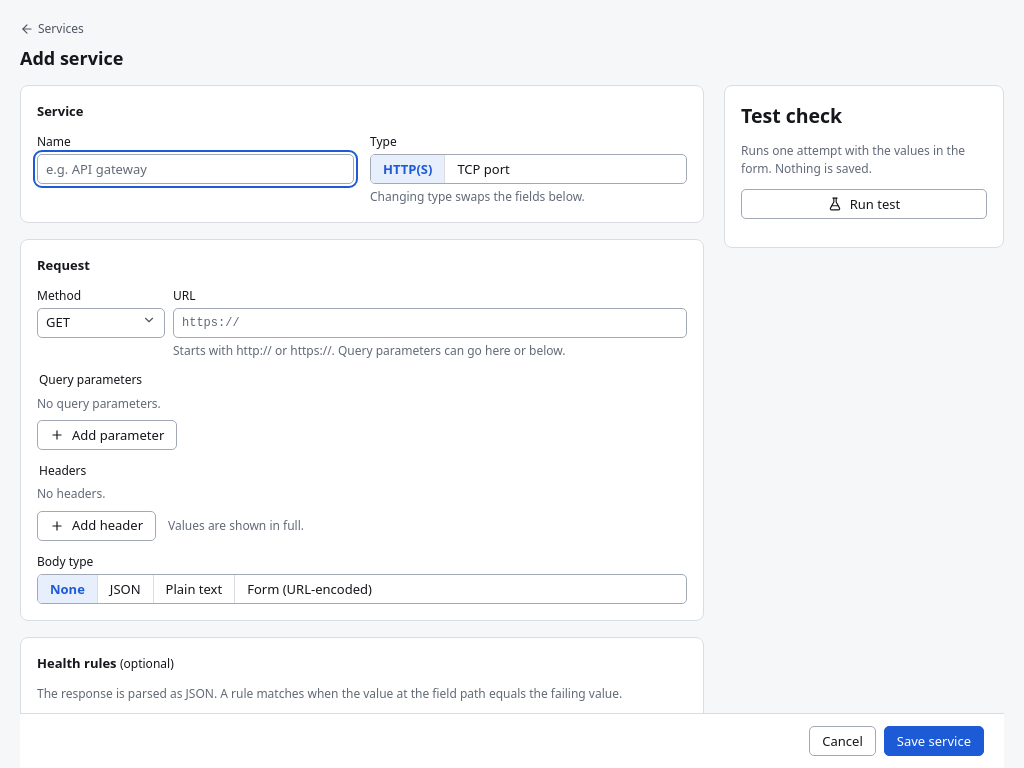
it: client checks › an empty name shows Enter a name. and sends nothing
Click the field labelled "URL" at (430,323), box 173,308 -> 687,338
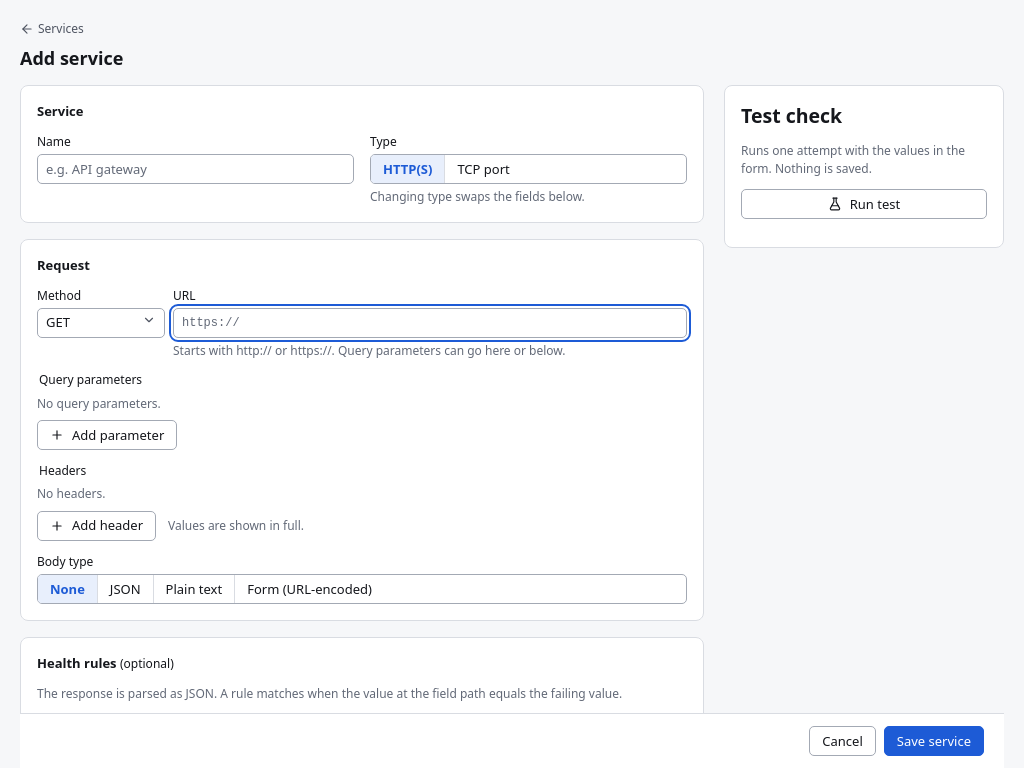
Type keys "https://search.example.com/health"
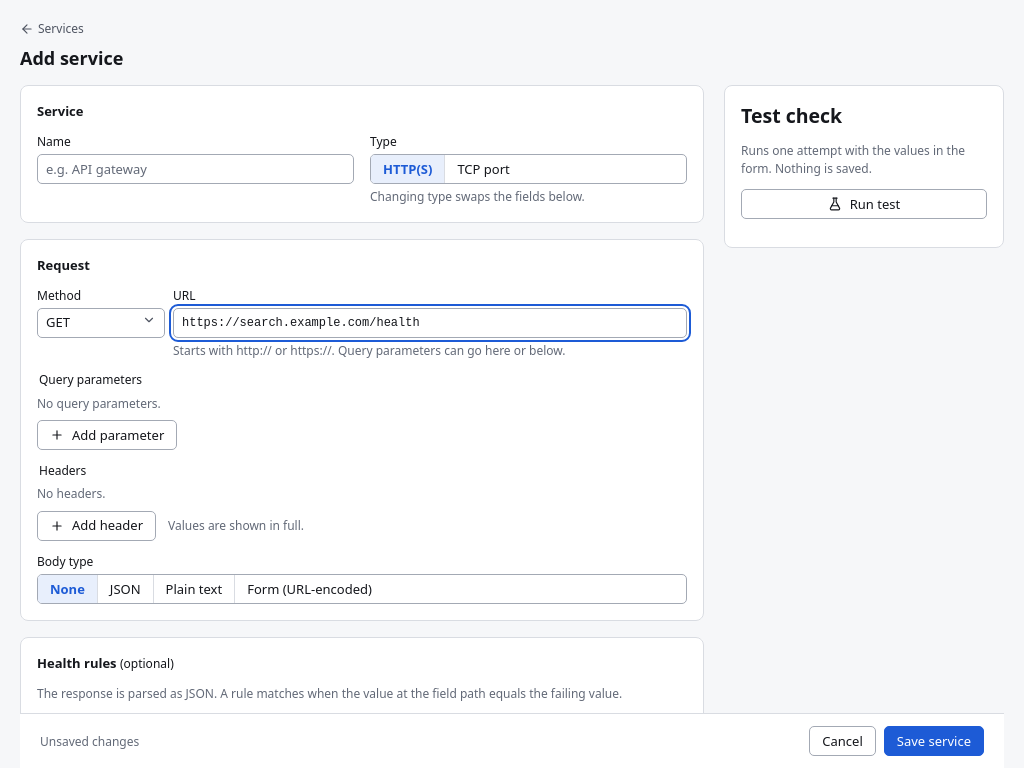
Click the button "Save service" at (934,741), box 884,726 -> 984,756
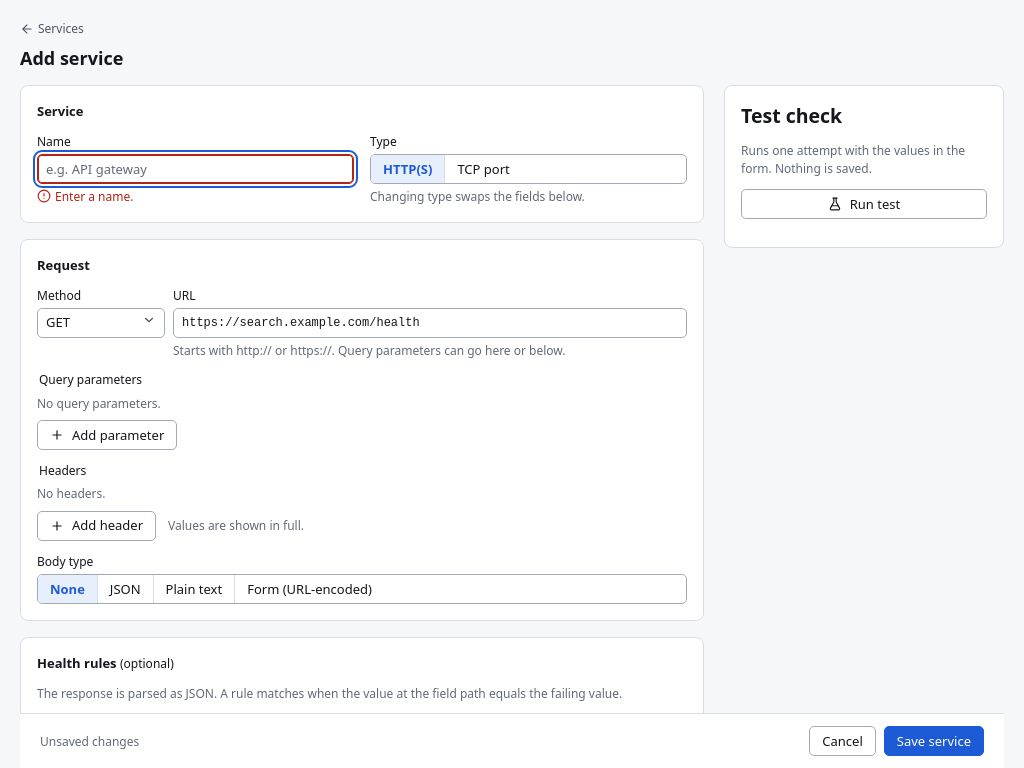
Check: the text "Enter a name." is shown, box 55,188 -> 134,206
